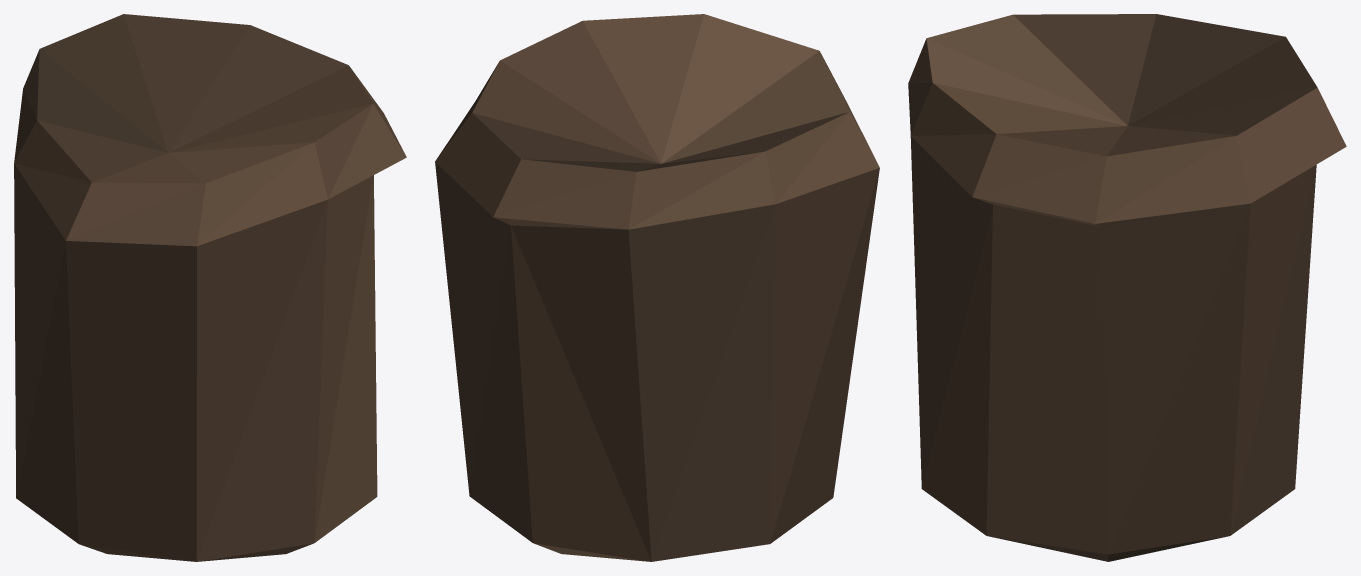
File: Prop_GrainBagALOD1.fbx
3 renders of one model, left to right at view 1: azimuth 30°, elevation 25°; view 2: azimuth 150°, elevation 25°; view 3: azimuth 270°, elevation 25°, orthographic. The views are drawn at different scales.
Parts seen in each view (by area): view 1: Prop_GrainBagALOD1; view 2: Prop_GrainBagALOD1; view 3: Prop_GrainBagALOD1.
Boxes of the visible parts, x1,y1,x2,y2 form: Prop_GrainBagALOD1: [14, 14, 406, 561]; Prop_GrainBagALOD1: [435, 14, 879, 561]; Prop_GrainBagALOD1: [908, 14, 1346, 561].
Bounding box in the file's own units: 55.34 × 61.89 × 56.57.
